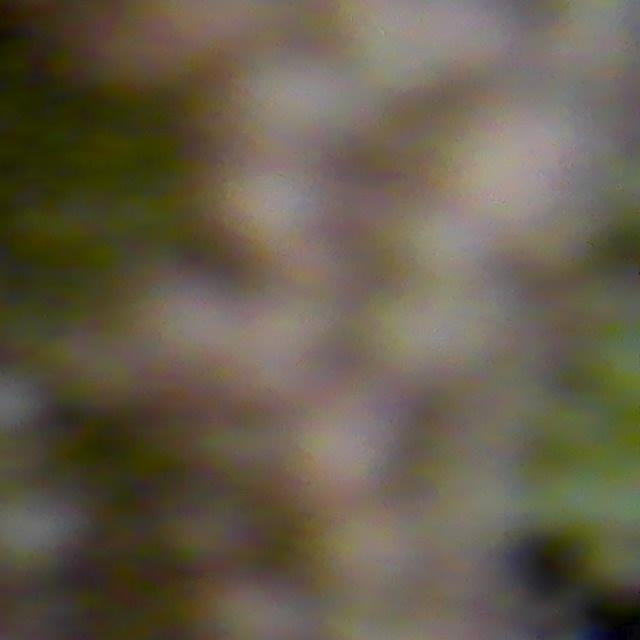SeaGrape: (0, 482, 87, 583)
